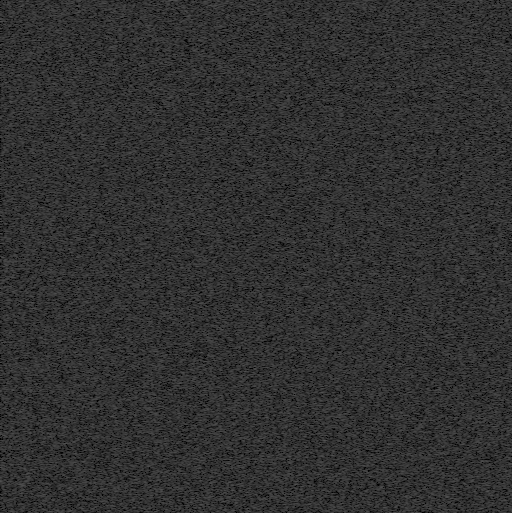wv_am: (257, 0, 263, 513), (239, 0, 245, 513)
wv_lsb: (256, 317, 262, 419), (256, 200, 262, 291), (257, 67, 262, 123), (207, 454, 213, 498), (208, 77, 213, 120), (257, 132, 261, 178), (257, 2, 262, 37), (208, 45, 213, 76), (208, 137, 213, 162), (208, 172, 212, 200), (208, 357, 212, 385), (257, 38, 262, 58), (208, 121, 213, 136), (257, 429, 261, 447), (208, 234, 213, 246), (208, 262, 212, 275), (208, 386, 212, 397), (257, 179, 261, 190), (257, 420, 262, 428), (208, 163, 212, 171), (257, 192, 261, 199), (257, 124, 261, 131), (258, 292, 261, 301), (209, 36, 212, 43), (209, 293, 212, 300), (258, 461, 261, 467), (208, 257, 212, 261), (208, 252, 212, 256), (208, 247, 212, 251), (257, 312, 261, 316), (257, 62, 261, 66), (208, 503, 213, 506), (208, 499, 213, 502), (258, 503, 261, 508), (209, 276, 212, 280), (258, 495, 261, 499), (258, 453, 261, 457), (258, 307, 261, 311), (208, 353, 212, 356), (209, 286, 212, 290), (209, 281, 212, 285), (258, 471, 261, 474), (209, 349, 212, 352)
wv_usb: (254, 3, 260, 378), (254, 383, 259, 513), (254, 379, 259, 503), (254, 140, 258, 212), (254, 213, 259, 261), (254, 100, 258, 139), (254, 46, 258, 73), (254, 262, 259, 283), (254, 74, 258, 99), (254, 293, 259, 306), (255, 27, 258, 42), (254, 504, 259, 513), (255, 11, 258, 17), (255, 22, 258, 26), (255, 3, 258, 7), (255, 284, 258, 287)
wv_wbfm: (262, 0, 269, 509)
